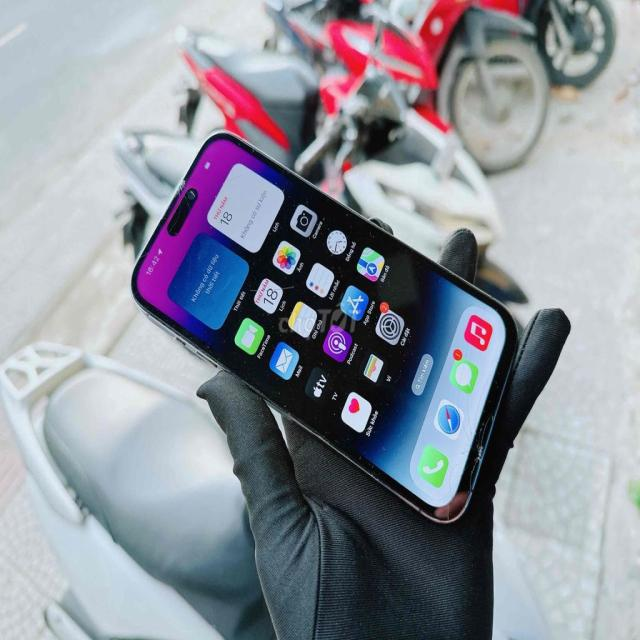physical_damage: (236, 264, 312, 302), (450, 368, 498, 404), (166, 171, 209, 210), (433, 483, 472, 526), (459, 440, 499, 481), (451, 402, 494, 440), (439, 440, 458, 474)
